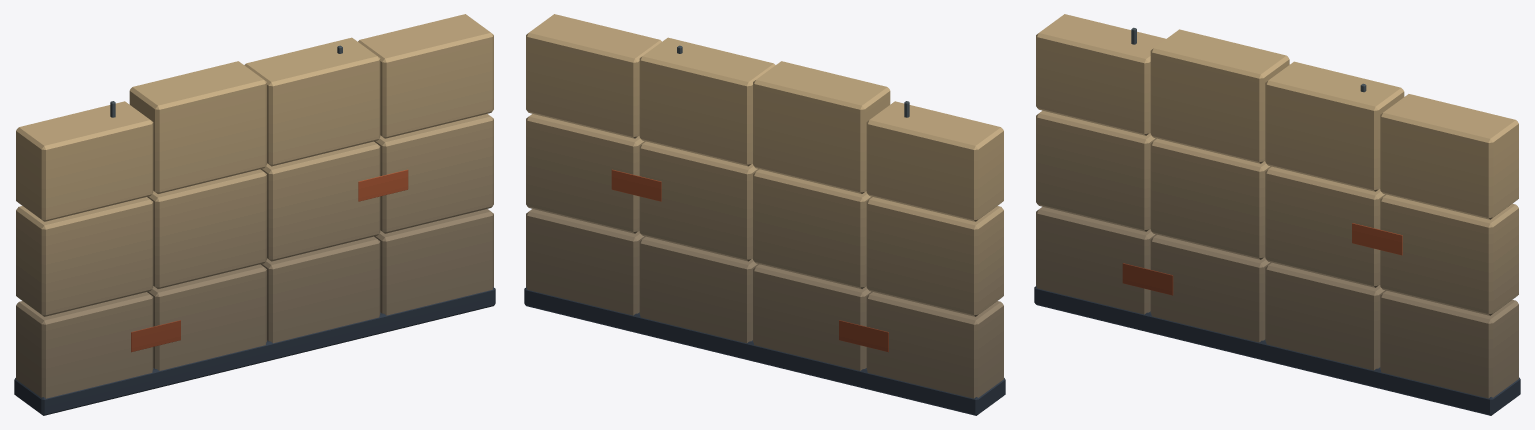
The model's file is ruinWall.glb.
The picture shows the model from 3 angles, left to right: view 1: azimuth 30°, elevation 25°; view 2: azimuth 150°, elevation 25°; view 3: azimuth 330°, elevation 25°; orthographic projection.
Parts seen in each view (by area): view 1: Masonry block.009, Masonry block.008, Masonry block.004, Masonry block.010, Masonry block.011, Masonry block, Masonry block.005, Masonry block.006, Masonry block.007, Masonry block.003, Masonry block.002, Masonry block.001 (+3 smaller); view 2: Masonry block.009, Masonry block.008, Masonry block.004, Masonry block.010, Masonry block.011, Masonry block, Masonry block.005, Masonry block.006, Masonry block.007, Masonry block.003, Masonry block.002, Masonry block.001 (+3 smaller); view 3: Masonry block.011, Masonry block.009, Masonry block.007, Masonry block.010, Masonry block.003, Masonry block.008, Masonry block.005, Masonry block.004, Masonry block.006, Masonry block.002, Masonry block.001, Masonry block (+3 smaller).
Boxes of the visible parts, left/top/right/bottom form: Masonry block.009: left=129, top=61, right=266, bottom=193; Masonry block.008: left=16, top=101, right=153, bottom=221; Masonry block.004: left=16, top=197, right=153, bottom=316; Masonry block.010: left=244, top=37, right=380, bottom=166; Masonry block.011: left=358, top=14, right=493, bottom=138; Masonry block: left=16, top=292, right=153, bottom=398; Masonry block.005: left=147, top=169, right=266, bottom=288; Masonry block.006: left=260, top=141, right=380, bottom=261; Masonry block.007: left=374, top=114, right=493, bottom=233; Masonry block.003: left=374, top=209, right=493, bottom=315; Masonry block.002: left=261, top=236, right=380, bottom=343; Masonry block.001: left=147, top=264, right=266, bottom=370; Masonry block.009: left=753, top=61, right=890, bottom=193; Masonry block.008: left=866, top=101, right=1003, bottom=221; Masonry block.004: left=866, top=197, right=1003, bottom=316; Masonry block.010: left=639, top=37, right=775, bottom=166; Masonry block.011: left=526, top=14, right=661, bottom=138; Masonry block: left=866, top=292, right=1003, bottom=398; Masonry block.005: left=753, top=169, right=872, bottom=288; Masonry block.006: left=639, top=141, right=759, bottom=261; Masonry block.007: left=526, top=114, right=645, bottom=233; Masonry block.003: left=526, top=209, right=645, bottom=315; Masonry block.002: left=639, top=236, right=758, bottom=343; Masonry block.001: left=753, top=264, right=872, bottom=370; Masonry block.011: left=1380, top=94, right=1518, bottom=219; Masonry block.009: left=1150, top=29, right=1289, bottom=163; Masonry block.007: left=1380, top=194, right=1518, bottom=315; Masonry block.010: left=1265, top=61, right=1404, bottom=191; Masonry block.003: left=1380, top=291, right=1518, bottom=398; Masonry block.008: left=1036, top=14, right=1165, bottom=135; Masonry block.005: left=1150, top=138, right=1271, bottom=259; Masonry block.004: left=1036, top=110, right=1156, bottom=231; Masonry block.006: left=1265, top=166, right=1386, bottom=287; Masonry block.002: left=1265, top=262, right=1386, bottom=370; Masonry block.001: left=1150, top=234, right=1271, bottom=342; Masonry block: left=1036, top=206, right=1156, bottom=314.
Size of the model in its own units: 4 by 2.39 by 0.454.
Materials: 3 (3 with a texture image).
